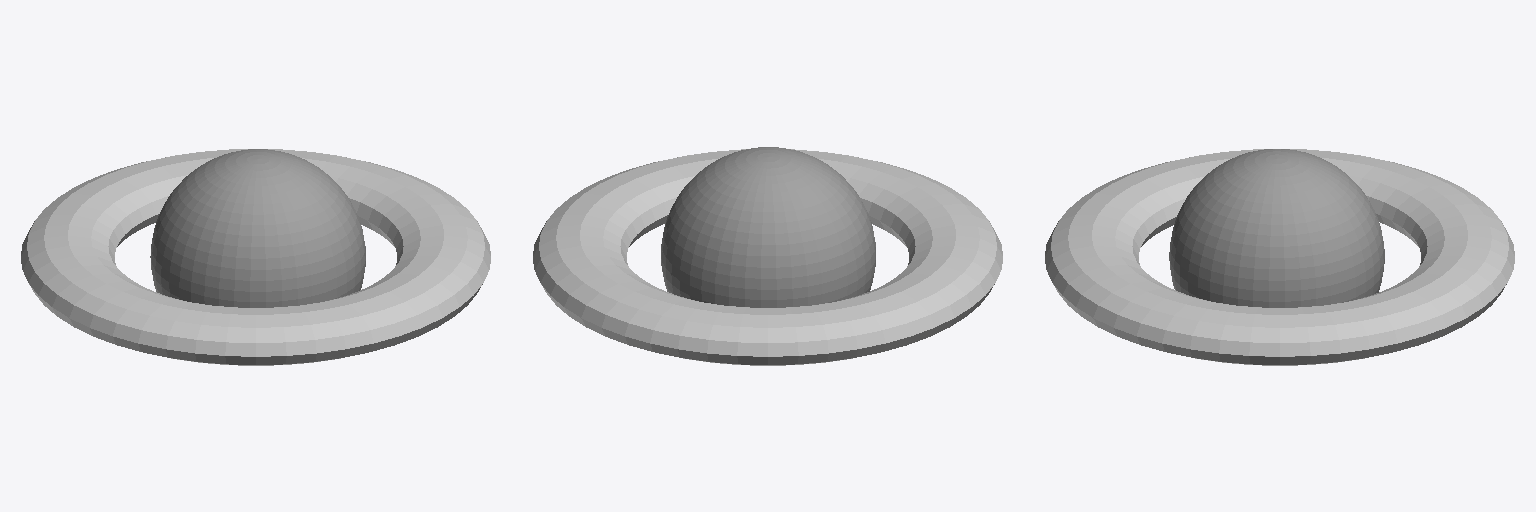
The model's file is ringCC.obj.
3 renders of one model, left to right at view 1: azimuth 30°, elevation 25°; view 2: azimuth 150°, elevation 25°; view 3: azimuth 270°, elevation 25°, orthographic.
Visible parts, largest first — view 1: Torus, Sphere.001; view 2: Torus, Sphere.001; view 3: Torus, Sphere.001.
Boxes of the visible parts, <box> form: Torus: <box>21,149,490,365</box>; Sphere.001: <box>150,149,365,307</box>; Torus: <box>533,149,1002,365</box>; Sphere.001: <box>661,147,875,307</box>; Torus: <box>1045,149,1514,365</box>; Sphere.001: <box>1169,149,1384,307</box>.
Size of the model in its own units: 4.37 by 2 by 4.37.